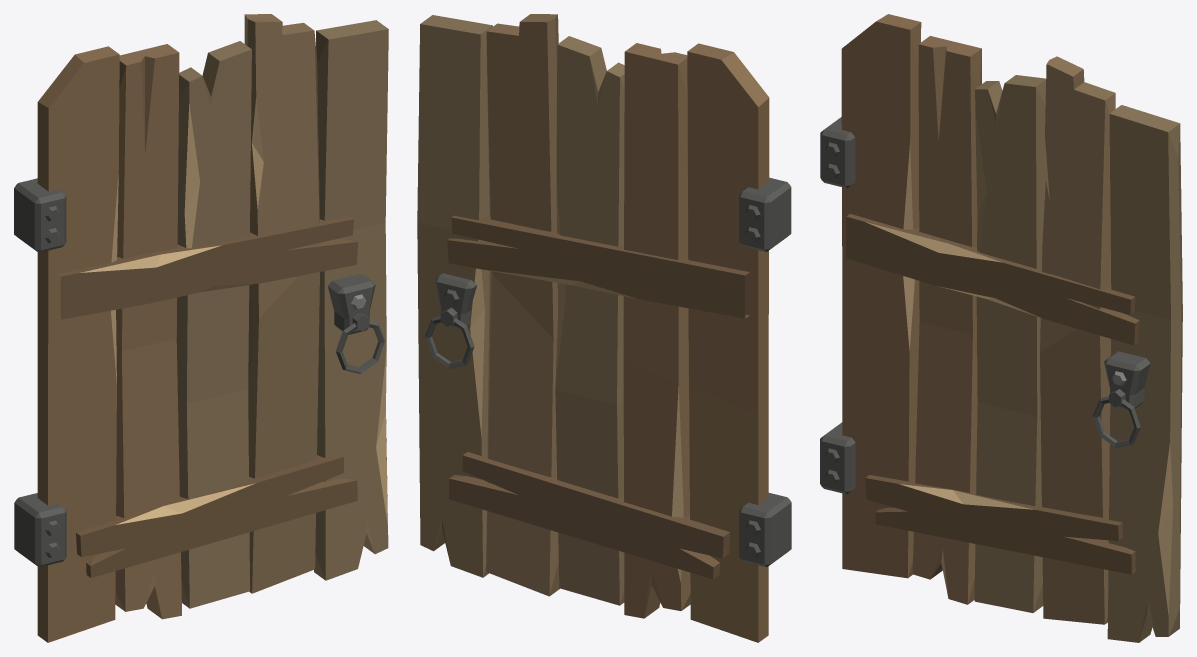
The model's file is rpgpp_ag_door_gate_small_01_left.fbx.
The picture shows the model from 3 angles, left to right: view 1: azimuth 30°, elevation 25°; view 2: azimuth 150°, elevation 25°; view 3: azimuth 330°, elevation 25°; orthographic projection. The views are drawn at different scales.
Visible parts, largest first — view 1: rpgpp_ag_door_gate_small_01_left; view 2: rpgpp_ag_door_gate_small_01_left; view 3: rpgpp_ag_door_gate_small_01_left.
Part boxes in pixels (x1,y1,x2,y2): rpgpp_ag_door_gate_small_01_left: (14,14,388,642); rpgpp_ag_door_gate_small_01_left: (417,14,791,642); rpgpp_ag_door_gate_small_01_left: (820,14,1182,642).
Bounding box in the file's own units: 2.43 × 3.72 × 0.4736.
